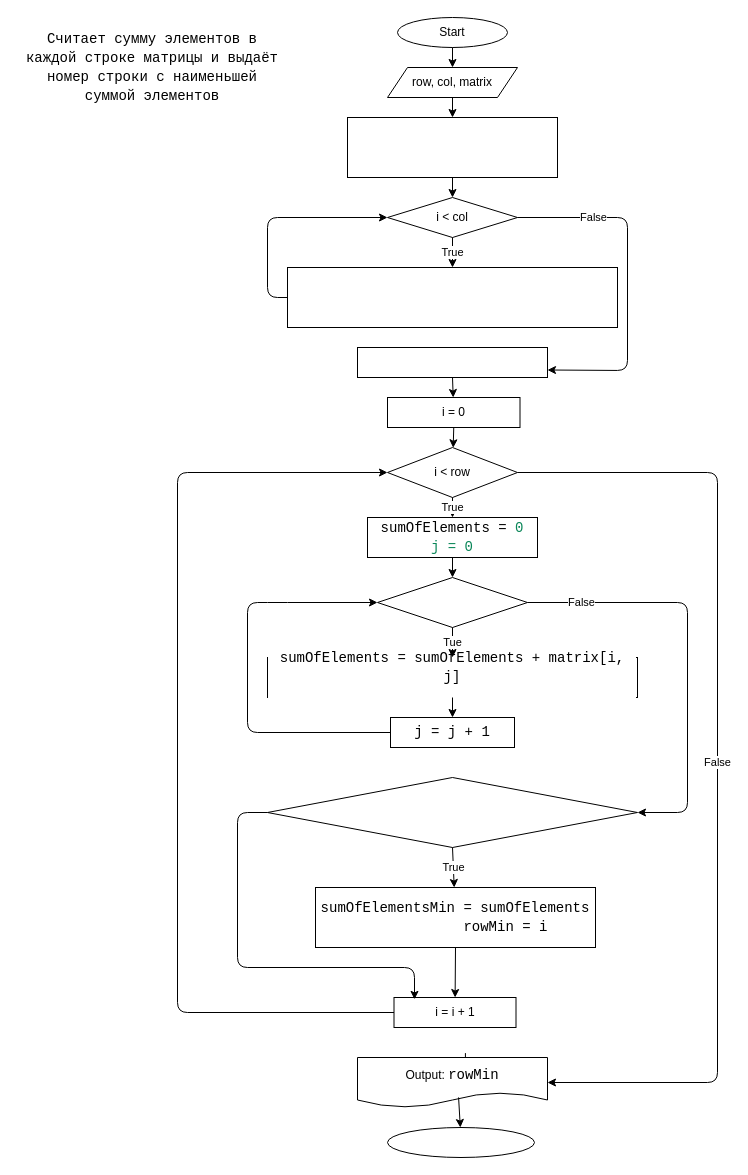
The diagram is 748 pixels wide and 1175 high, and some of its shapes have lost their labels. The centre of each missing label's shape, as x and y in pixels:
"End" goes at pixel 460 1142.
"j < col" goes at pixel 452 602.
"rowMin = 0 sumOfElementsMin = 0 i = 0" goes at pixel 452 147.
"sumOfElements < sumOfElementsMin" goes at pixel 452 812.
"sumOfElements = 0" goes at pixel 452 362.
"sumOfElementsMin = sumOfElementsMin + matrix[ 0 , j] i = i +1" goes at pixel 452 297.
